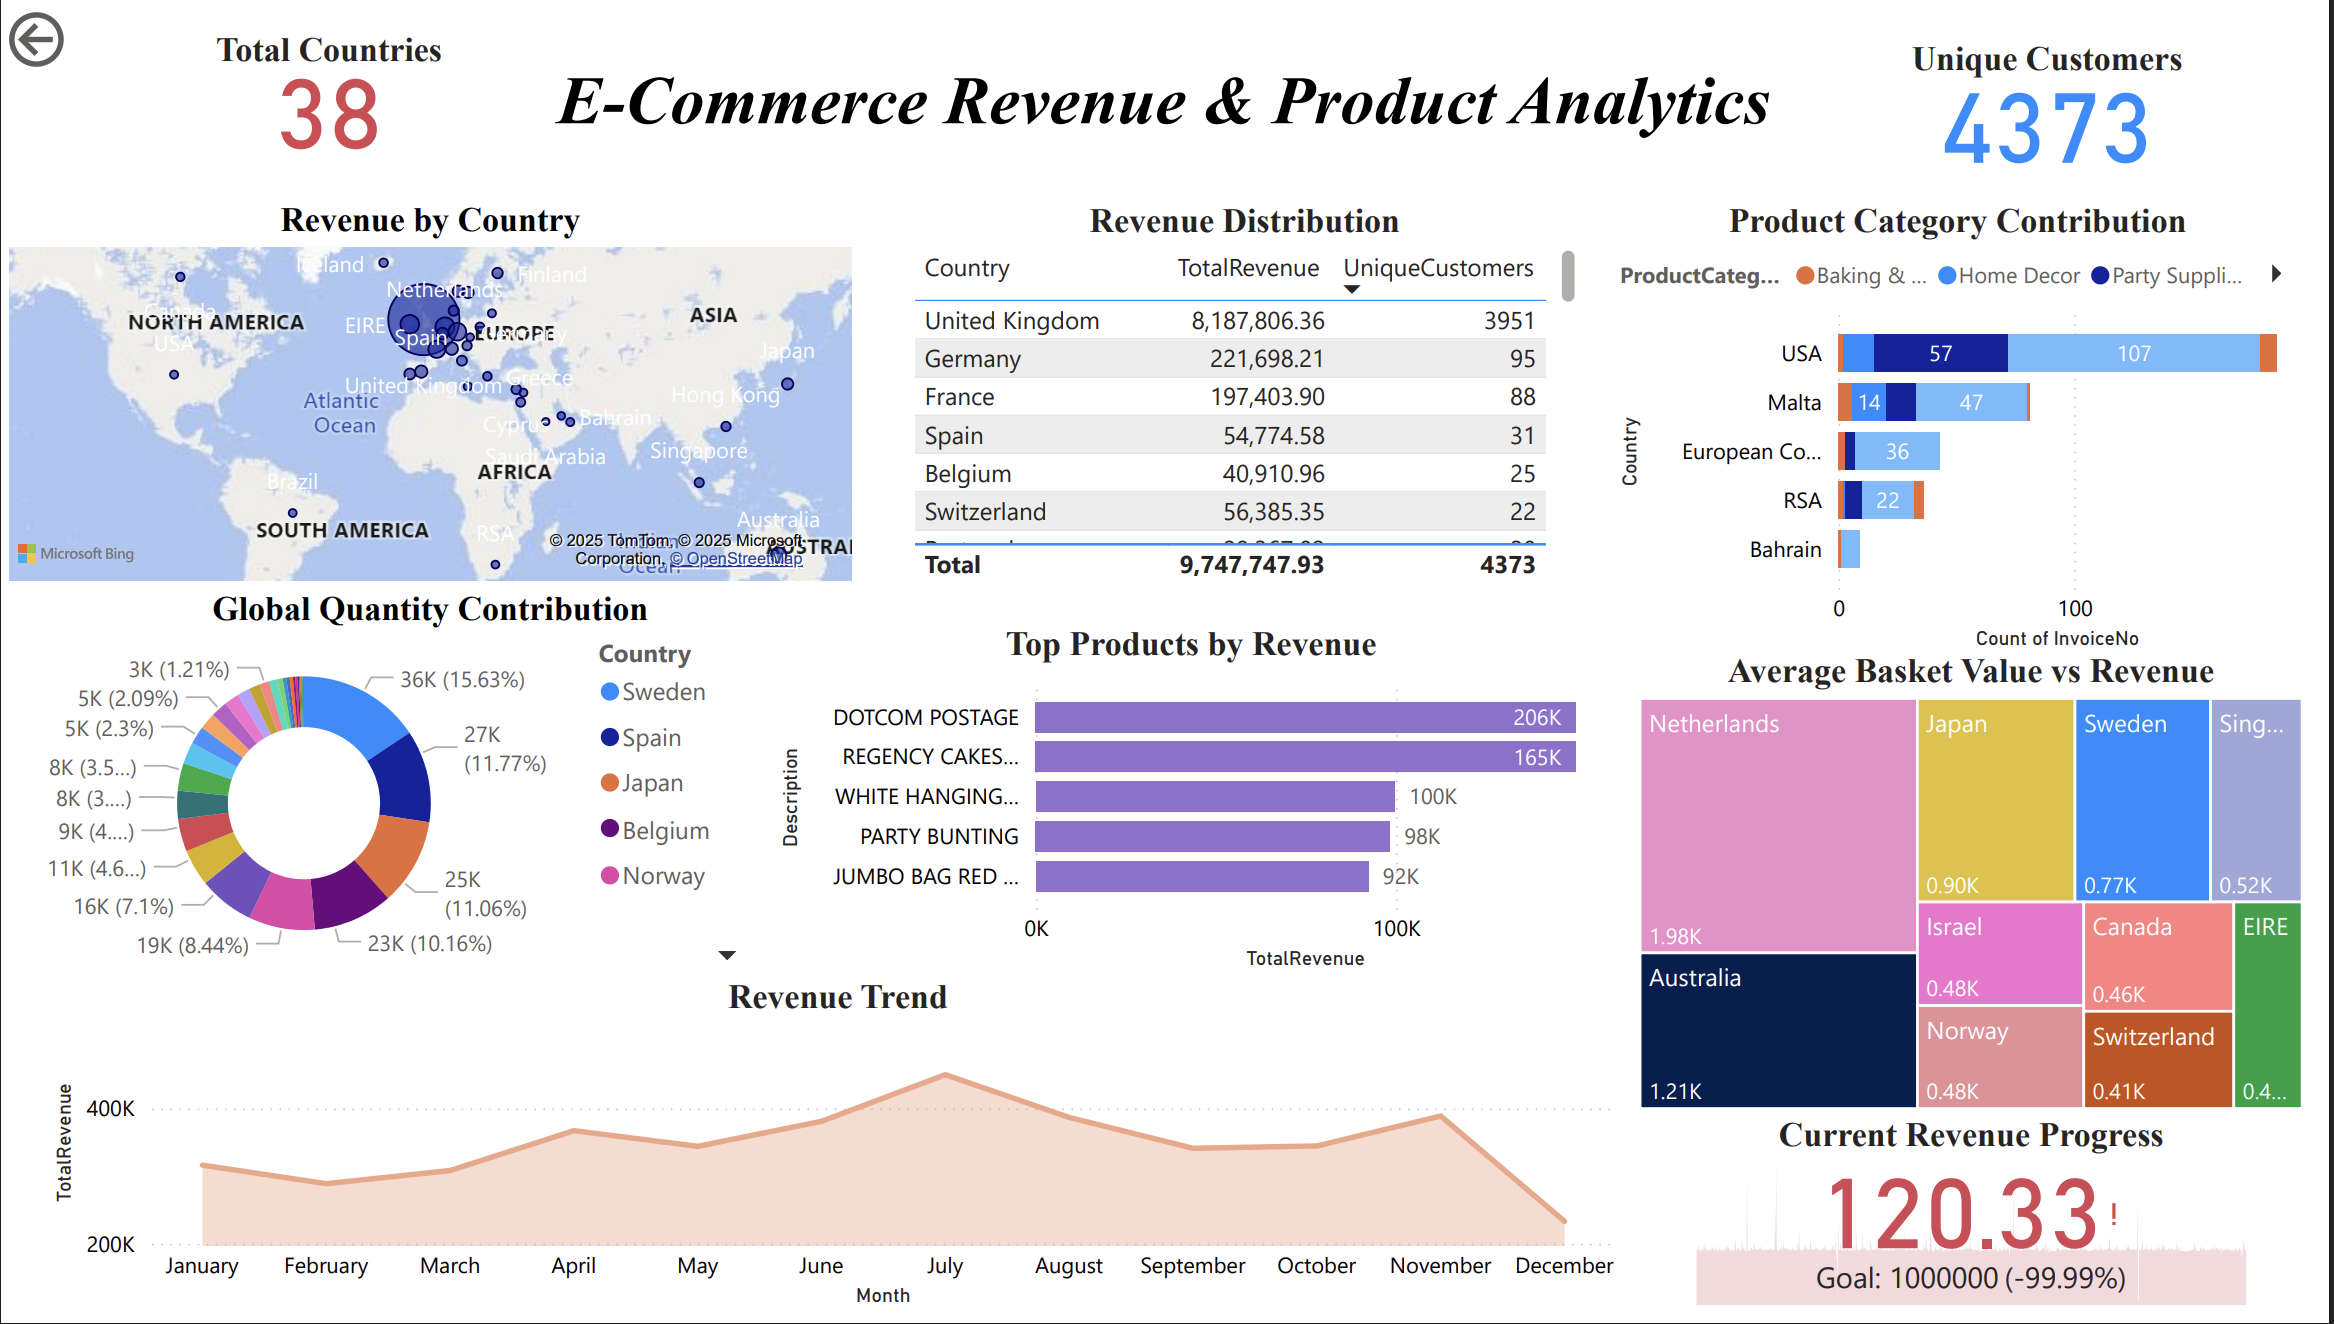

What the dashboard file says about the page in this screenshot:
{"tool":"powerbi","page":{"name":"Page 1","canvas":[1280,720],"ordinal":0},"visuals":[{"type":"textbox","title":"E-Commerce Sales & Revenue Analytics","box":[0,27.5,1269.3,56.4],"z":0},{"type":"kpi","title":"Current Revenue Progress","fields":{"TrendLine":["data.InvoiceDate"],"Indicator":["data.TotalRevenue"],"Goal":["data.RevenueTarget"]},"box":[927,611.3,312,108.8],"z":1000},{"type":"card","title":"Unique Customers","fields":{"Values":["data.UniqueCustomers"]},"box":[1043,20,163.3,83.4],"z":2000},{"type":"map","title":"Revenue by Country","fields":{"Category":["data.Country"],"Size":["data.TotalRevenue"]},"box":[0,108.3,472.9,213.6],"z":4000},{"type":"tableEx","title":"Revenue Distribution ","fields":{"Values":["data.Country","data.TotalRevenue","data.UniqueCustomers"]},"box":[497,108.8,373.7,214.1],"z":5000},{"type":"actionButton","box":[0,0,100,40],"z":6000},{"type":"donutChart","title":"Global Quantity Contribution ","fields":{"Y":["Sum(data.Quantity)"],"Category":["data.Country"]},"box":[0,321.9,472.9,213.6],"z":7000},{"type":"areaChart","title":"Revenue Trend","fields":{"Category":["data.InvoiceDate.Variation.Date Hierarchy.Month"],"Y":["data.TotalRevenue"]},"box":[25.4,535.1,870.7,185],"z":8000},{"type":"barChart","title":"Top Products by Revenue","fields":{"Category":["data.Description"],"Y":["data.TotalRevenue"]},"box":[424.5,341,460.8,194.1],"z":9000},{"type":"treemap","title":"Average Basket Value vs Revenue","fields":{"Group":["data.Country"],"Values":["data.AvgBasketSize"]},"box":[896.1,355.5,373.7,255.8],"z":10000},{"type":"barChart","title":"Product Category Contribution","fields":{"Category":["data.Country"],"Y":["CountNonNull(data.InvoiceNo)"],"Series":["data.ProductCategory"]},"box":[885.2,108.8,380.9,250.3],"z":11000},{"type":"card","title":"Total Countries","fields":{"Values":["Count(data.Country)"]},"box":[61.7,14.5,237.6,78],"z":12000}]}

Visuals, with their boxes in screenshot pixels (x1, y1, x2, y2), scaled from the page's 1280x720 canvas onto the 2334x1324 screenshot:
"E-Commerce Sales & Revenue Analytics" textbox: (0, 51, 2314, 154)
"Current Revenue Progress" kpi: (1690, 1124, 2259, 1323)
"Unique Customers" card: (1902, 37, 2200, 190)
"Revenue by Country" map: (0, 199, 862, 592)
"Revenue Distribution " tableEx: (906, 200, 1588, 594)
actionButton: (0, 0, 182, 74)
"Global Quantity Contribution " donutChart: (0, 592, 862, 985)
"Revenue Trend" areaChart: (46, 984, 1634, 1323)
"Top Products by Revenue" barChart: (774, 627, 1614, 984)
"Average Basket Value vs Revenue" treemap: (1634, 654, 2315, 1124)
"Product Category Contribution" barChart: (1614, 200, 2309, 660)
"Total Countries" card: (113, 27, 546, 170)
